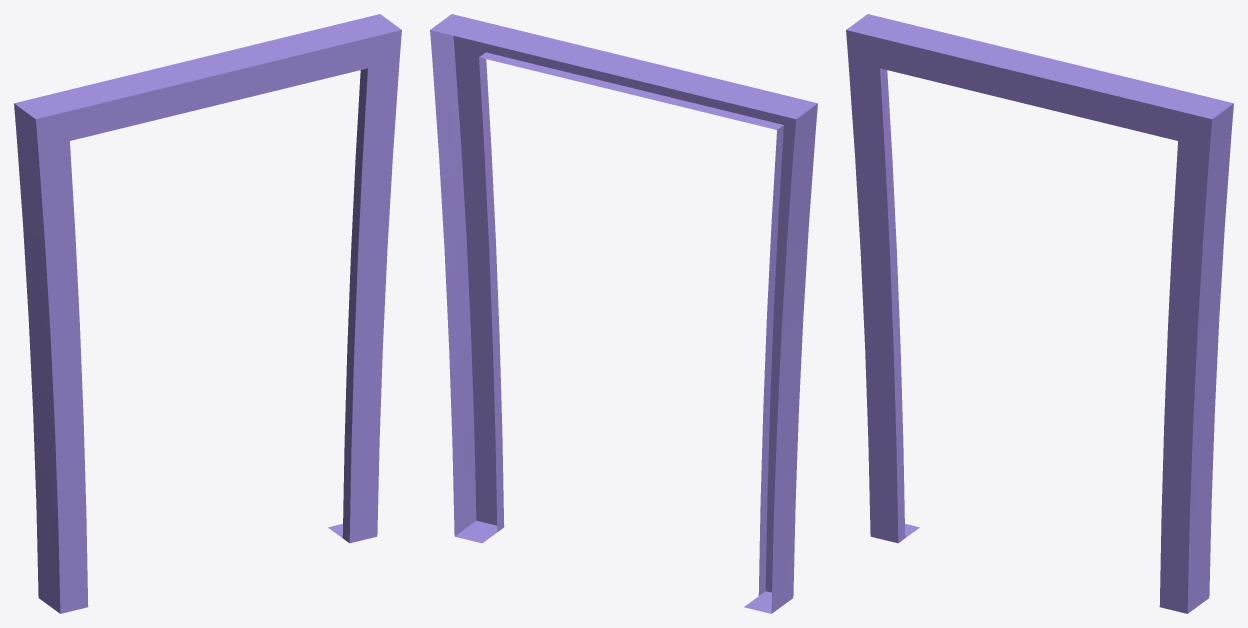
The model's file is marco.FBX.
The picture shows the model from 3 angles, left to right: view 1: azimuth 30°, elevation 25°; view 2: azimuth 150°, elevation 25°; view 3: azimuth 330°, elevation 25°; orthographic projection.
Parts seen in each view (by area): view 1: puerta2_low; view 2: puerta2_low; view 3: puerta2_low.
Boxes of the visible parts, bbox=[...] form: puerta2_low: bbox=[14, 14, 401, 613]; puerta2_low: bbox=[430, 14, 817, 613]; puerta2_low: bbox=[846, 14, 1233, 613].
Bounding box in the file's own units: 56.01 × 73.19 × 5.79.
